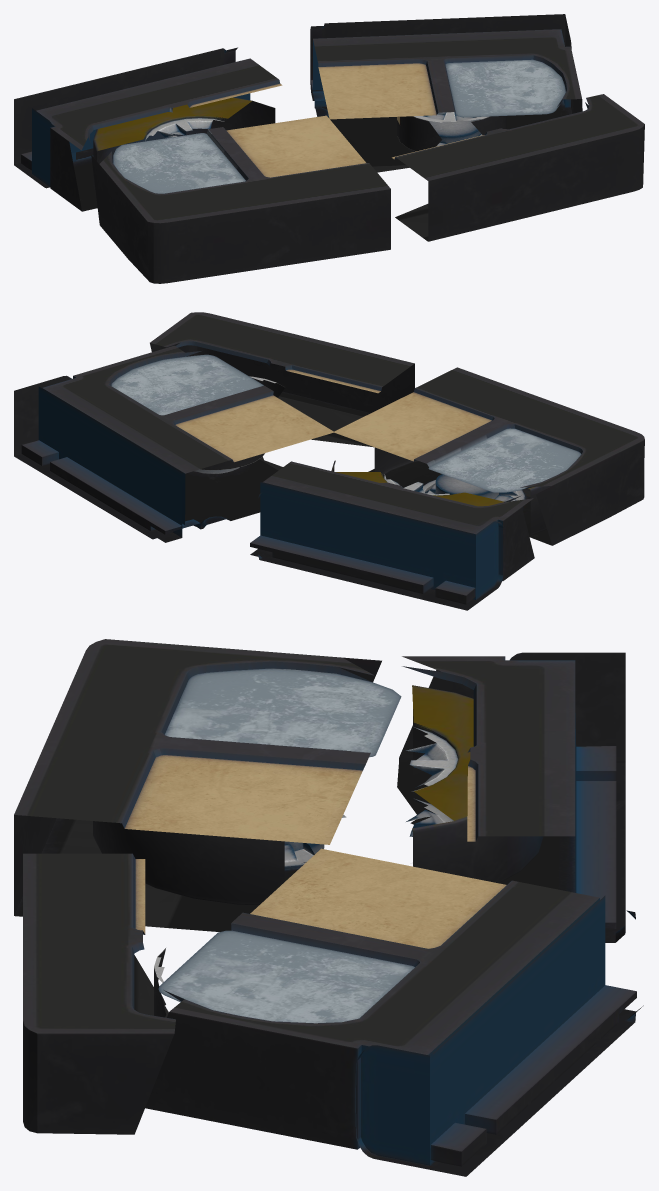
File: cassetteOff.fbx
3 views of the same model, one above another, from view 1: azimuth 30°, elevation 25°; view 2: azimuth 150°, elevation 25°; view 3: azimuth 270°, elevation 25° (orthographic). The views are drawn at different scales.
Parts seen in each view (by area): view 1: defaultMaterial.003; view 2: defaultMaterial.003; view 3: defaultMaterial.003.
Boxes of the visible parts, x1,y1,x2,y2 form: defaultMaterial.003: (14, 14, 644, 283); defaultMaterial.003: (14, 312, 644, 610); defaultMaterial.003: (14, 639, 643, 1176).
Bounding box in the file's own units: 237 × 29.65 × 148.
Materials: 1 (1 with a texture image).
